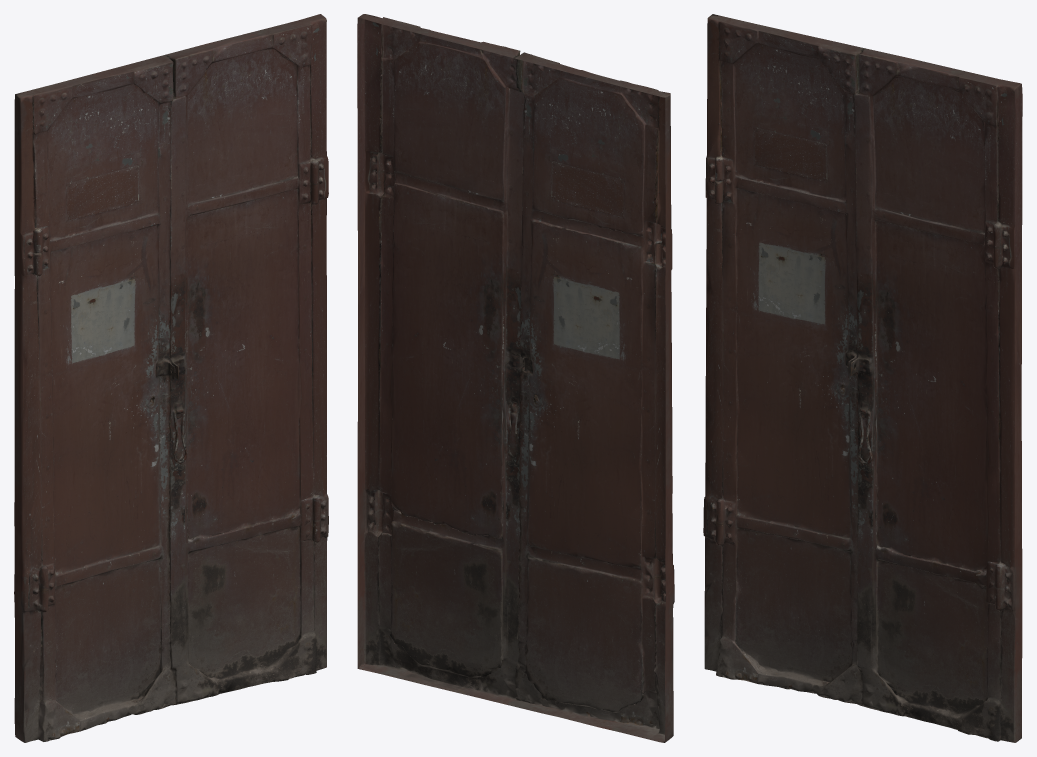
File: SM_xengfcss_tier_2.gltf
The picture shows the model from 3 angles, left to right: view 1: azimuth 30°, elevation 25°; view 2: azimuth 150°, elevation 25°; view 3: azimuth 330°, elevation 25°; orthographic projection.
Visible parts, largest first — view 1: xengfcss_LOD0_TIER2_000; view 2: xengfcss_LOD0_TIER2_000; view 3: xengfcss_LOD0_TIER2_000.
Part boxes in pixels (box(x1,y1,x2,y2)): xengfcss_LOD0_TIER2_000: box(14, 14, 328, 742); xengfcss_LOD0_TIER2_000: box(357, 14, 674, 742); xengfcss_LOD0_TIER2_000: box(703, 14, 1022, 742).
Bounding box in the file's own units: 1.24 × 2.5 × 0.0955.
1 material, 1 textured.
